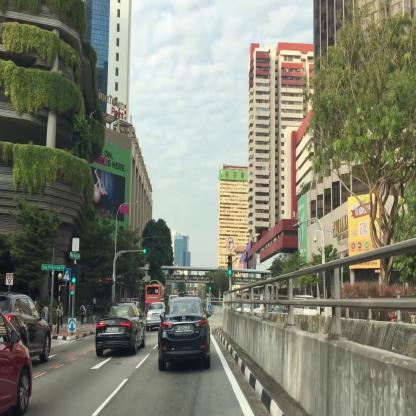green_traffic_light: (227, 256, 232, 274), (143, 249, 149, 252), (209, 281, 211, 290)
